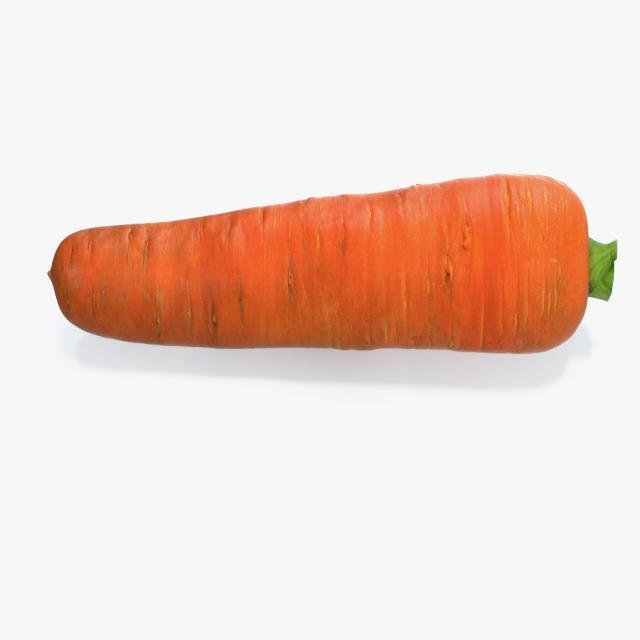carrot: (49, 159, 621, 354)
